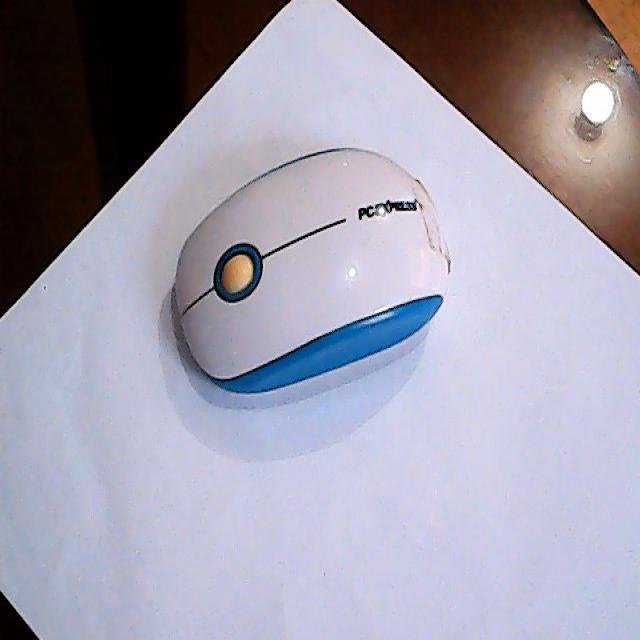mouse: (174, 144, 452, 396)
